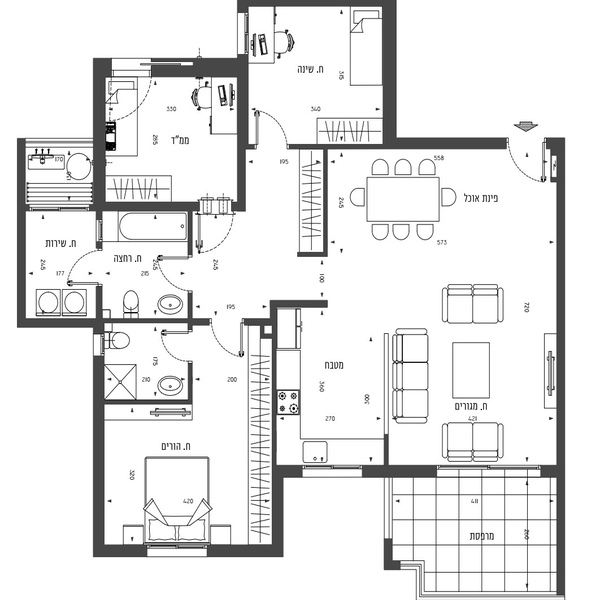door: (199, 316, 251, 367), (60, 245, 107, 294), (507, 134, 548, 190), (197, 207, 242, 256), (157, 252, 201, 290), (254, 105, 289, 145), (160, 327, 197, 363)
room: (273, 148, 566, 481), (83, 310, 290, 564), (91, 54, 256, 208), (237, 2, 400, 154), (88, 198, 267, 314), (9, 128, 105, 328)
wall: (551, 138, 567, 476), (86, 355, 105, 556), (233, 55, 256, 203), (90, 53, 107, 210), (96, 195, 198, 219), (375, 31, 396, 143), (15, 134, 27, 324), (268, 302, 282, 459), (557, 472, 574, 597), (241, 2, 404, 15), (146, 61, 248, 80), (204, 539, 279, 562), (107, 313, 217, 328), (21, 315, 105, 333), (394, 138, 525, 149), (106, 394, 196, 409), (287, 139, 382, 153), (367, 463, 441, 480), (274, 464, 285, 559), (98, 541, 147, 561), (323, 141, 331, 254), (275, 298, 326, 314), (87, 284, 110, 318), (383, 539, 402, 579), (183, 204, 195, 249), (180, 292, 195, 325), (186, 361, 197, 404), (295, 253, 336, 259)
window: (441, 461, 543, 478), (145, 543, 207, 560), (299, 463, 371, 476), (29, 201, 96, 214)
